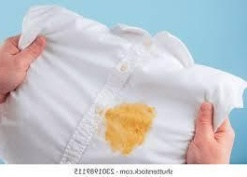mustard: (103, 103, 155, 154)
